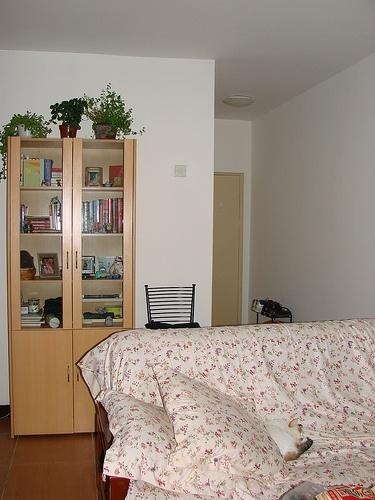cat: (266, 415, 316, 461)
chair: (143, 283, 201, 329)
pottedplant: (89, 85, 138, 139), (50, 97, 88, 139), (2, 112, 50, 139)
sofa: (89, 317, 375, 500)
